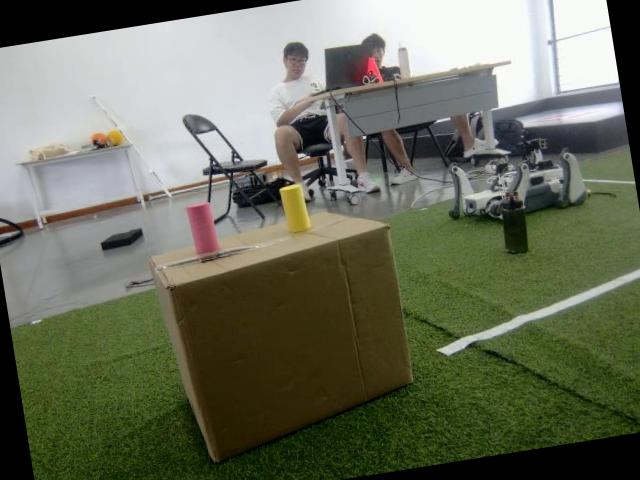red_cylinder: (186, 198, 222, 259)
yellow_cylinder: (279, 183, 311, 236)
